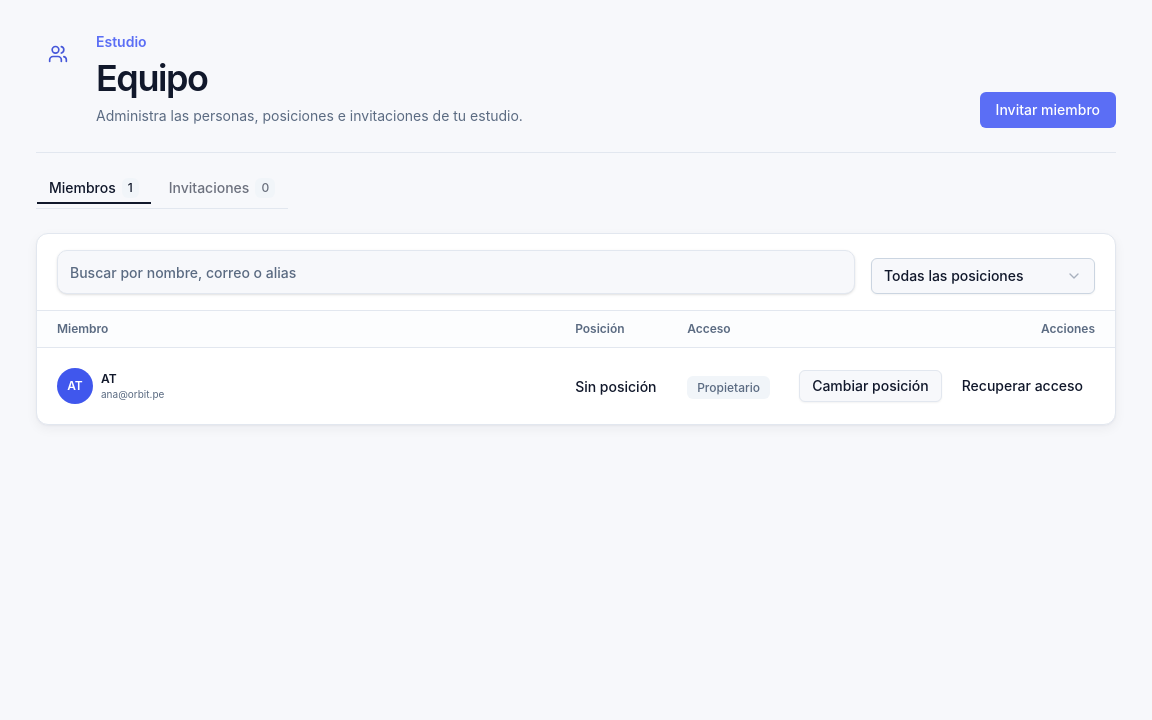
TeamPage › lets only owners open member password recovery
Click the button with aria-label "Generar enlace de recuperación de Ana Torres": (1022,386) x1=950 y1=370 x2=1095 y2=402
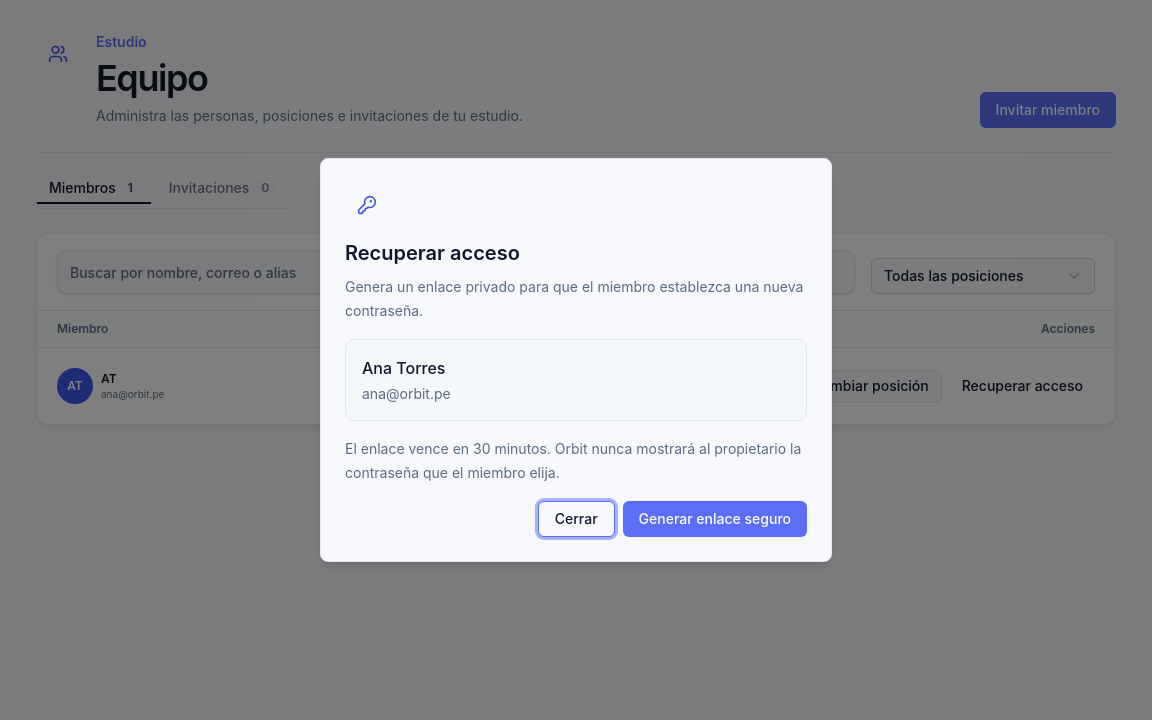
Now the dialog "Recuperar acceso" is shown, box x1=320 y1=158 x2=832 y2=562
